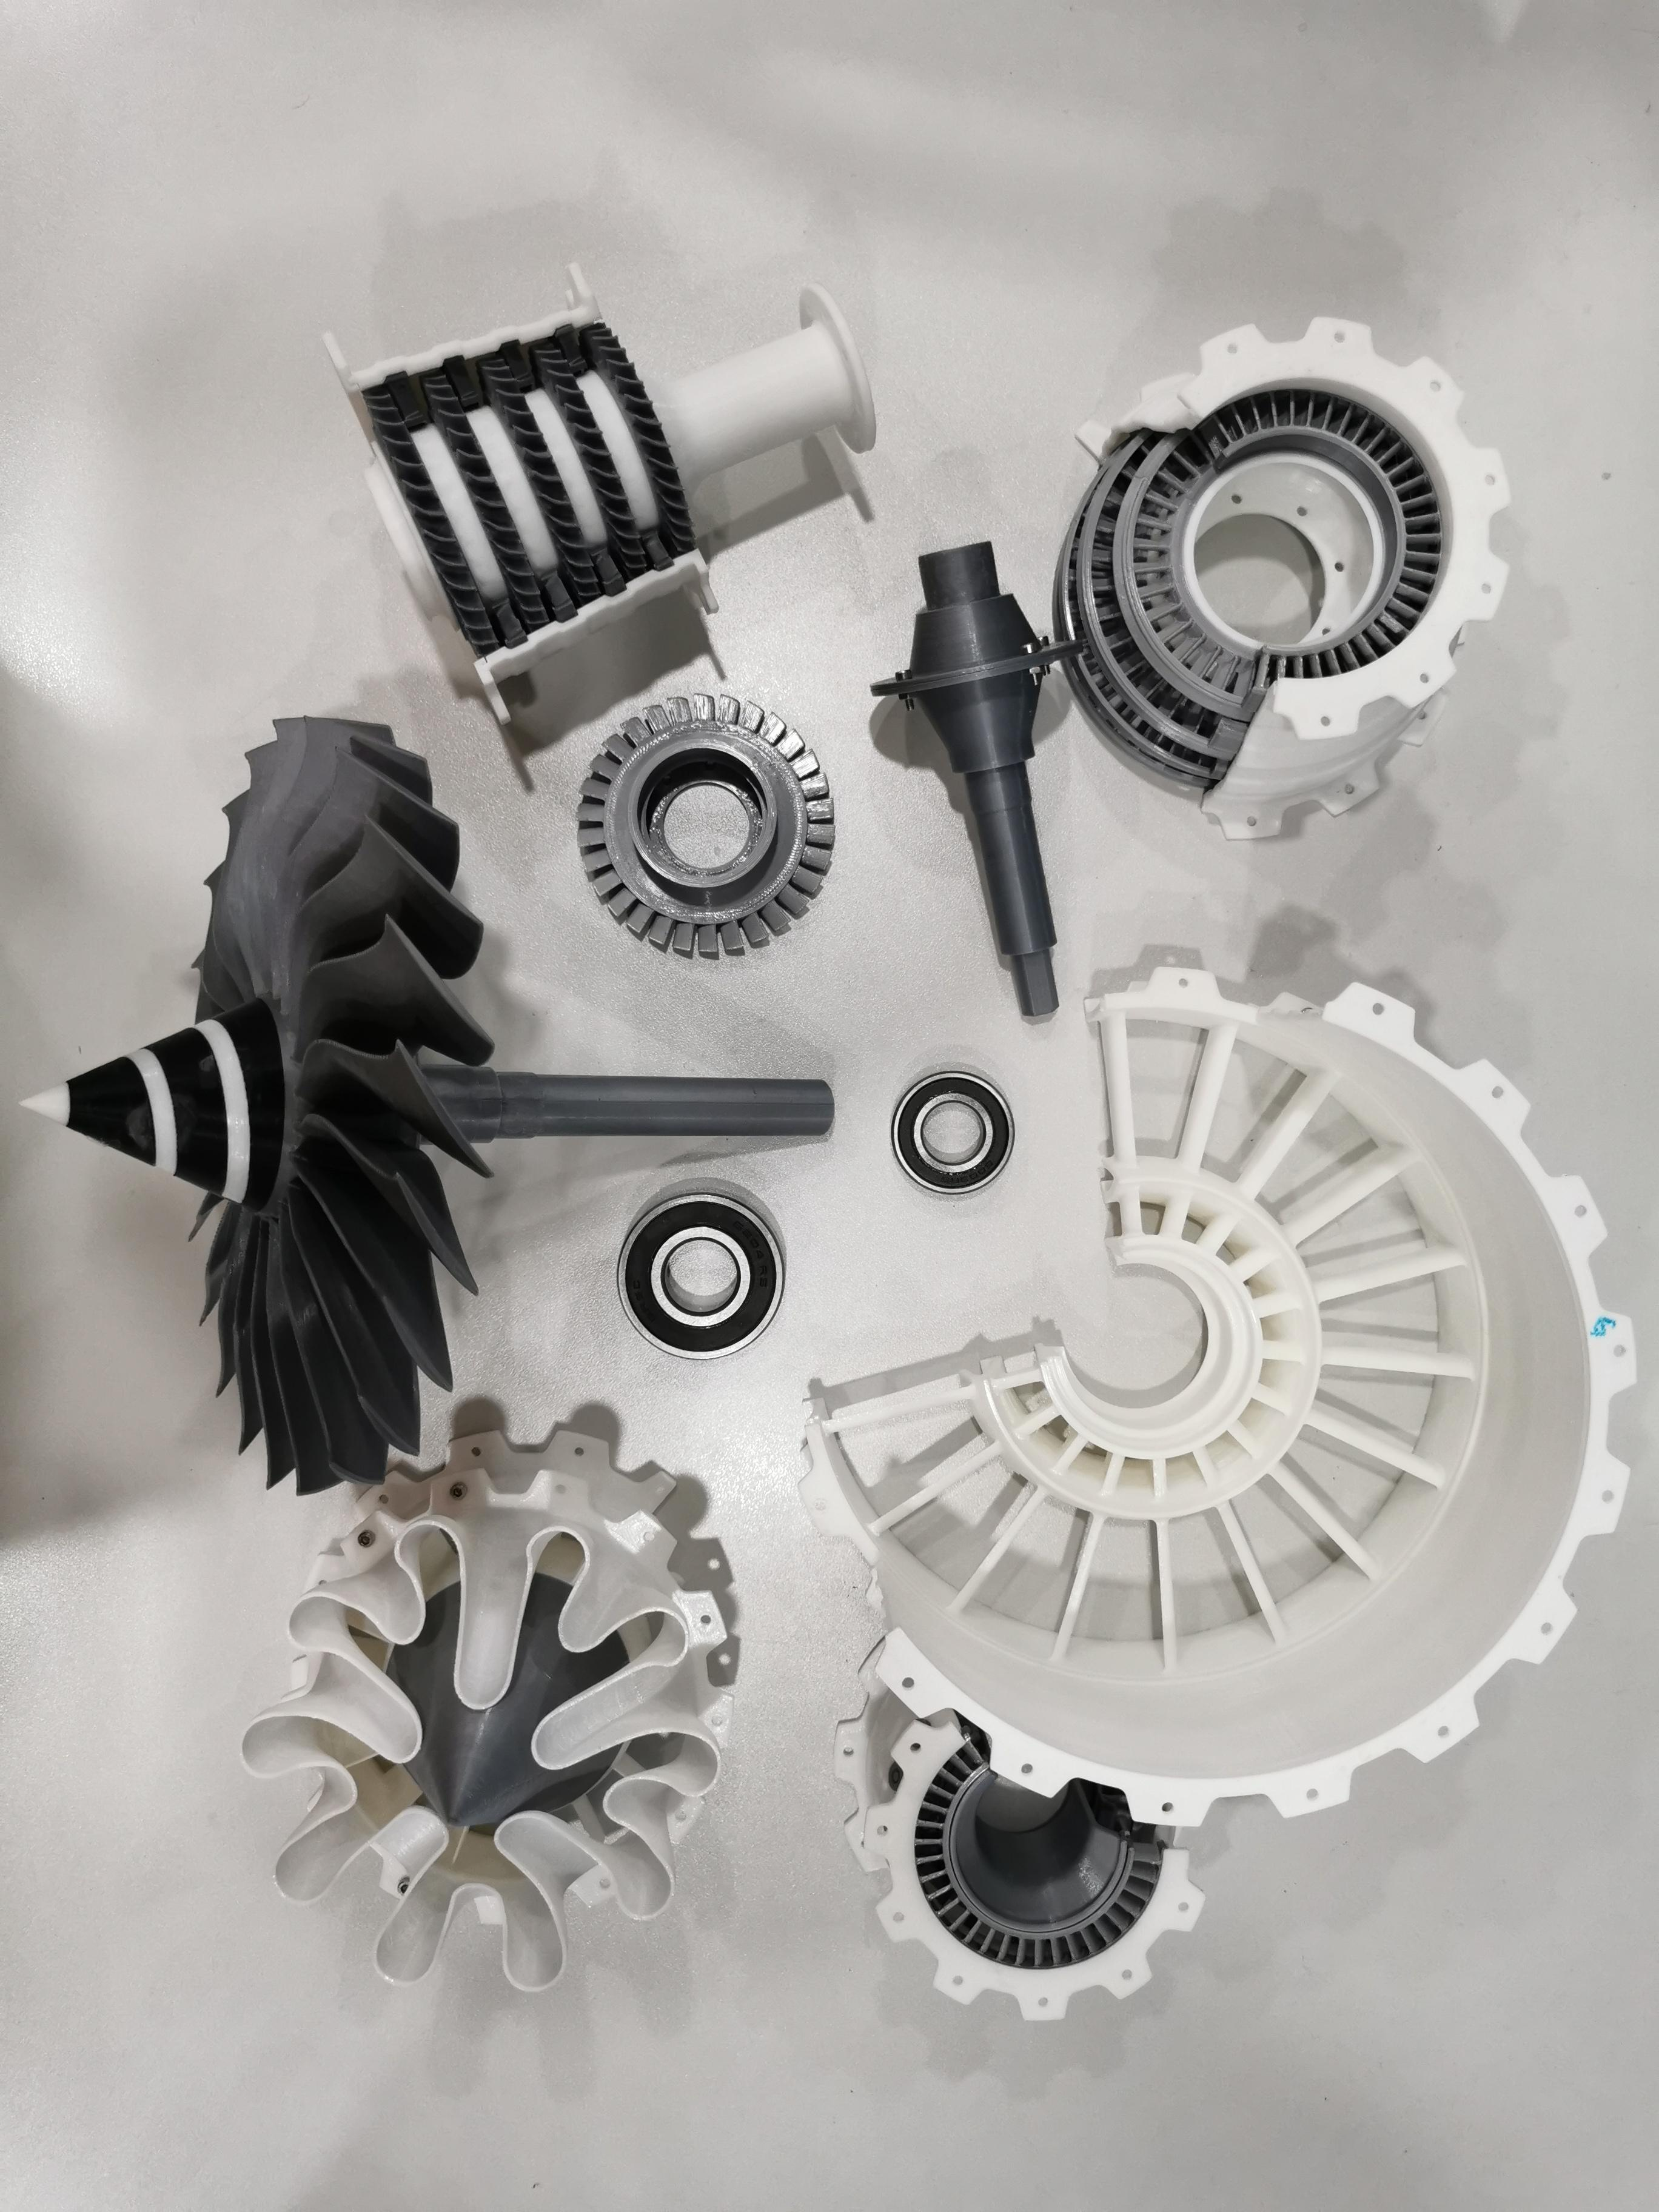Bearing-6003: (875, 1043, 1026, 1217)
Bearing-6204: (586, 1181, 802, 1378)
Combustion Section: (809, 1625, 1229, 2043)
Fan Casing and Support: (782, 958, 1649, 1843)
Fan and Low Pressure Shaft: (9, 698, 845, 1501)
HPT Section: (561, 679, 845, 970)
High Pressure Spool: (300, 249, 889, 728)
LPT Section: (1037, 303, 1527, 845)
Low Pressure Spool: (863, 529, 1103, 1031)
Nozzle Section: (234, 1407, 756, 2003)
